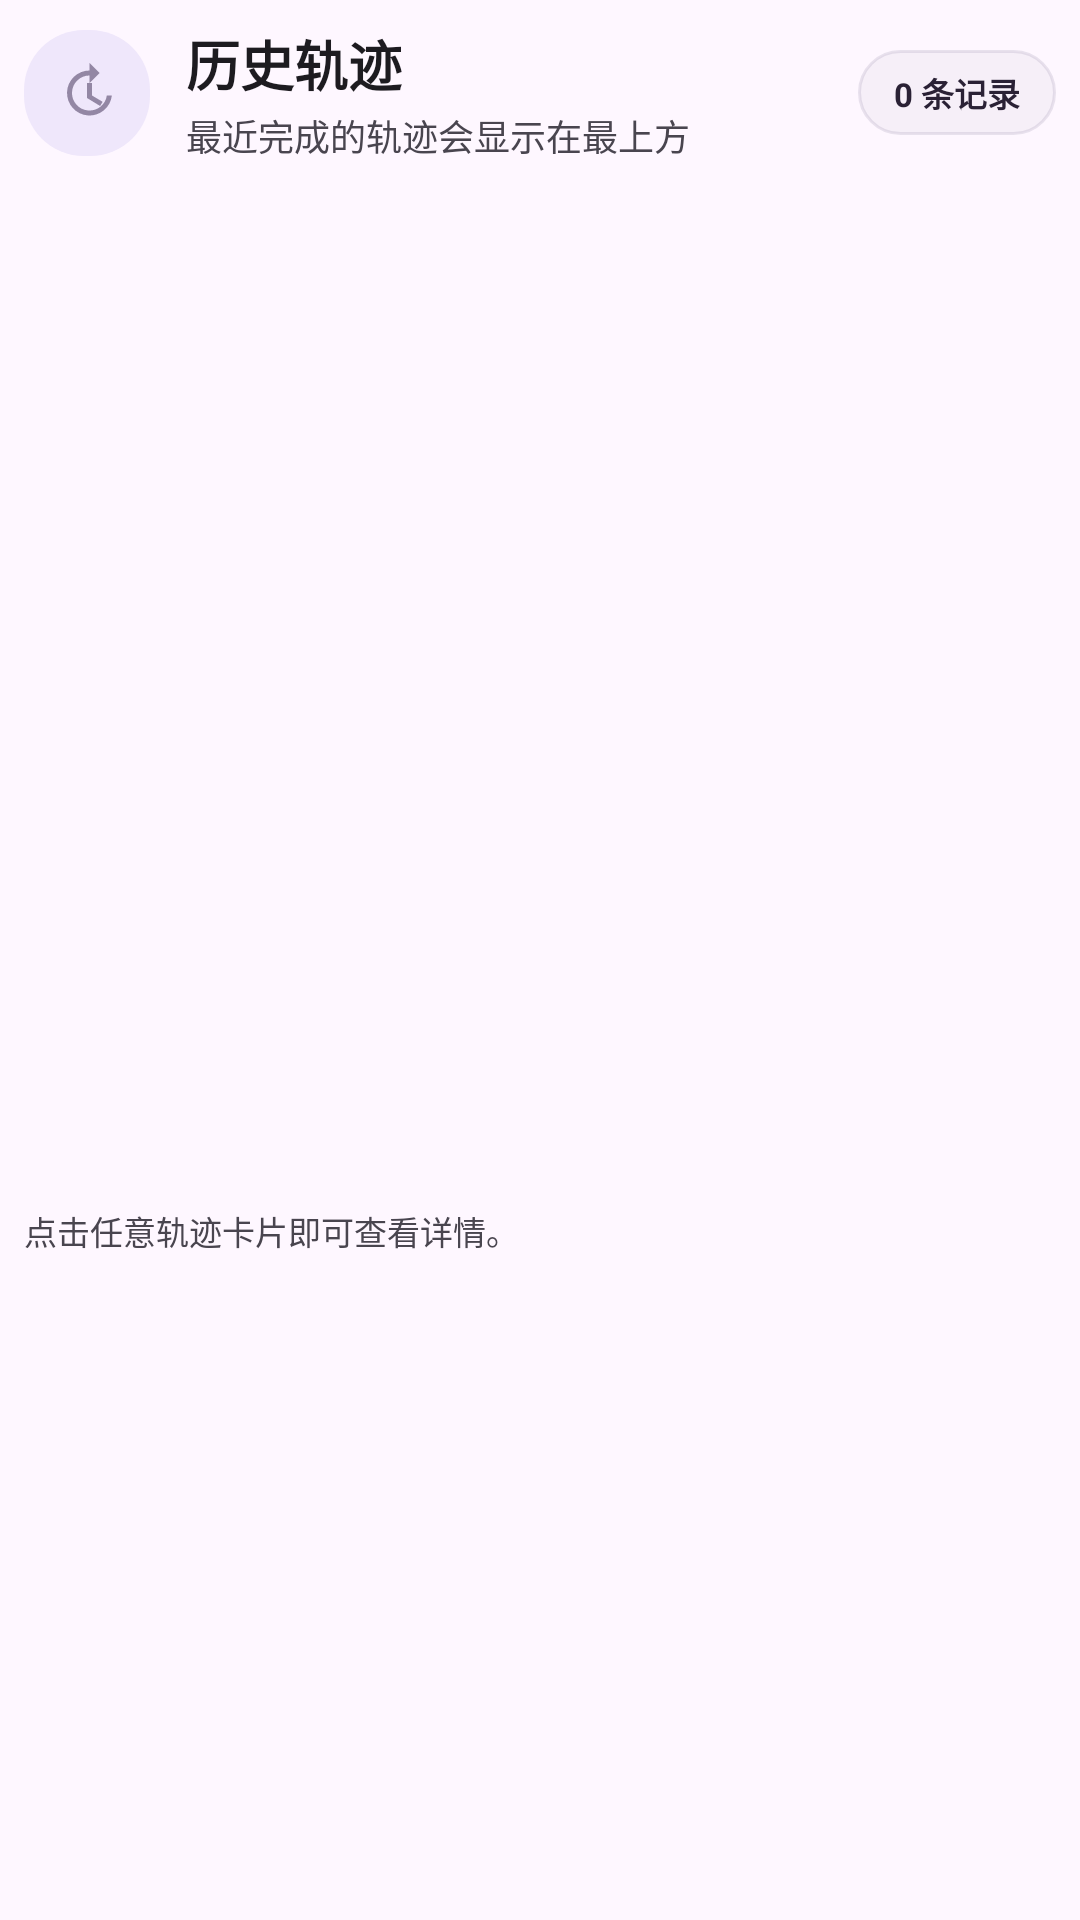

Locate icon controls on the screen. Image size 1080px x 1920px, boxes as (x1,y1,x2,y2).
history: (67,63,112,116)
